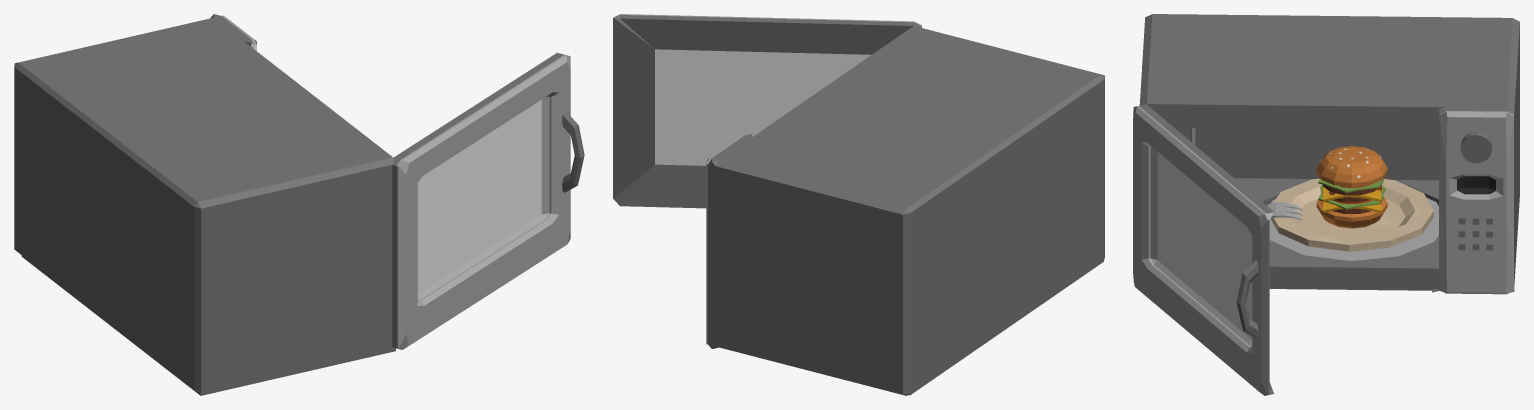
File: MIKRODALGAIBURGER (1).fbx
3 renders of one model, left to right at view 1: azimuth 30°, elevation 25°; view 2: azimuth 150°, elevation 25°; view 3: azimuth 270°, elevation 25°, orthographic. The views are drawn at different scales.
Parts seen in each view (by area): view 1: mıkrodalga.006, mıkrodalga.008; view 2: mıkrodalga.006, mıkrodalga.008; view 3: mıkrodalga.006, mıkrodalga.008, Cube.104, catal.002.
Part boxes in pixels (x1,y1,x2,y2): mıkrodalga.006: (14, 14, 395, 395); mıkrodalga.008: (392, 52, 584, 349); mıkrodalga.006: (706, 26, 1104, 395); mıkrodalga.008: (613, 14, 921, 208); mıkrodalga.006: (1139, 14, 1519, 294); mıkrodalga.008: (1133, 104, 1273, 395); Cube.104: (1316, 146, 1387, 228); catal.002: (1267, 202, 1302, 220).
Size of the model in its own units: 266 by 111 by 213.
8 materials, 7 textured.
